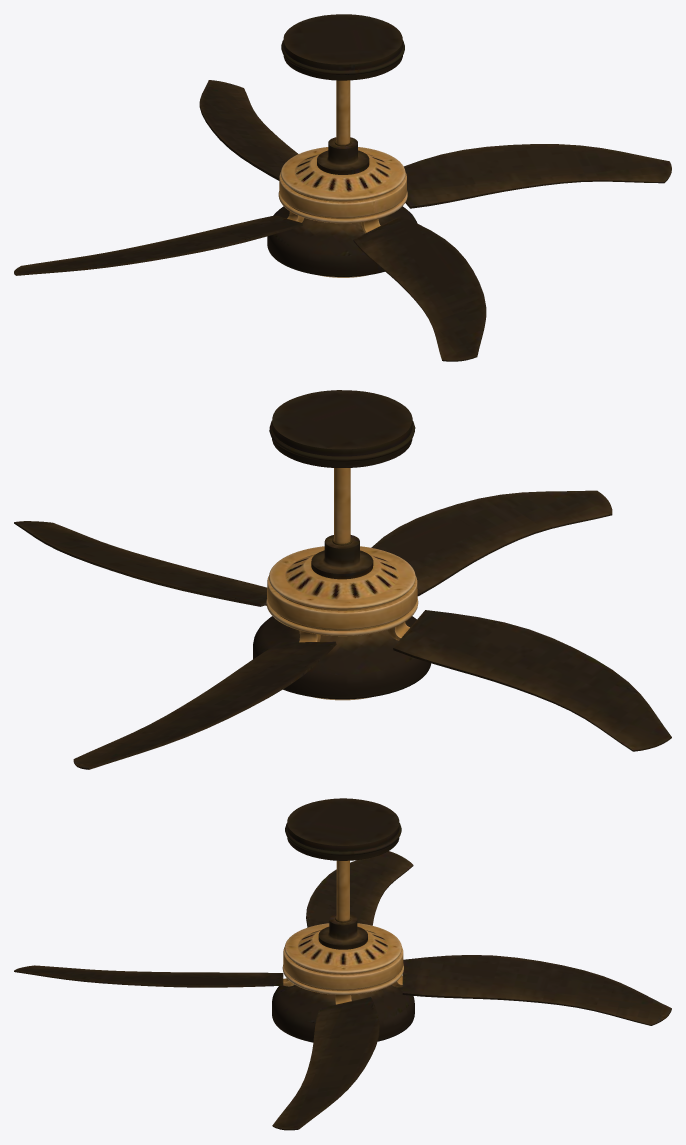
Rendered from nyb_crowd_fan.glb.
The picture shows the model from 3 angles, top to bottom: view 1: azimuth 30°, elevation 25°; view 2: azimuth 150°, elevation 25°; view 3: azimuth 270°, elevation 25°; orthographic projection. The views are drawn at different scales.
Parts seen in each view (by area): view 1: ceiling_fan; view 2: ceiling_fan; view 3: ceiling_fan.
Part boxes in pixels (box(x1,y1,x2,y2)): ceiling_fan: box(14, 14, 671, 361); ceiling_fan: box(14, 390, 671, 769); ceiling_fan: box(14, 798, 671, 1130).
Bounding box in the file's own units: 1.46 × 0.5163 × 1.46.
Materials: 1 (1 with a texture image).
